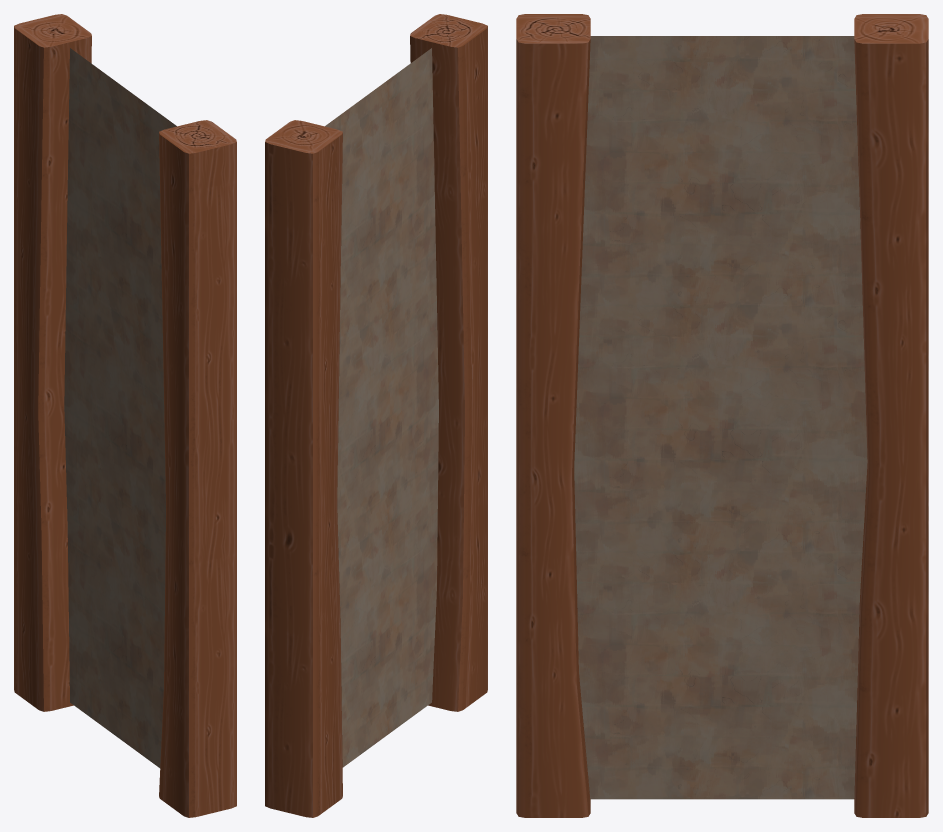
File: SM_Wall_03.fbx
3 renders of one model, left to right at view 1: azimuth 30°, elevation 25°; view 2: azimuth 150°, elevation 25°; view 3: azimuth 270°, elevation 25°, orthographic. The views are drawn at different scales.
Parts seen in each view (by area): view 1: SM_Wall_03_LOD0; view 2: SM_Wall_03_LOD0; view 3: SM_Wall_03_LOD0.
Boxes of the visible parts, x1,y1,x2,y2 form: SM_Wall_03_LOD0: (14, 14, 236, 817); SM_Wall_03_LOD0: (265, 14, 487, 817); SM_Wall_03_LOD0: (516, 14, 928, 817).
Bounding box in the file's own units: 56.87 × 334 × 692.
Materials: 2 (2 with a texture image).
